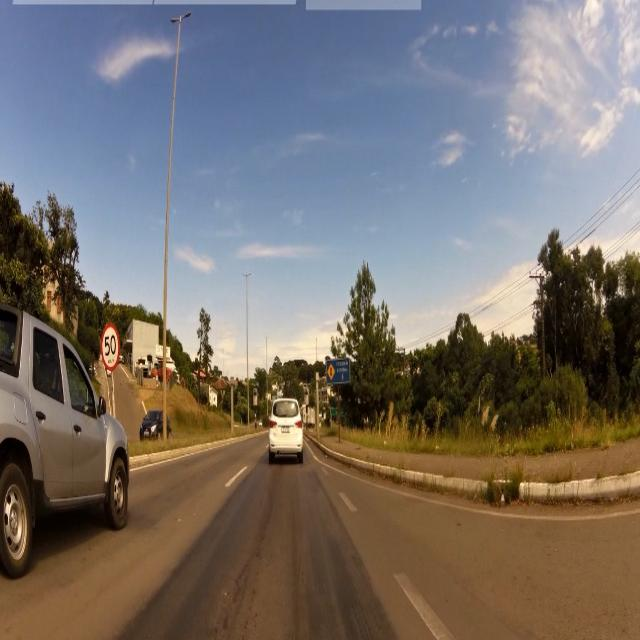R-19: (100, 319, 120, 375)
